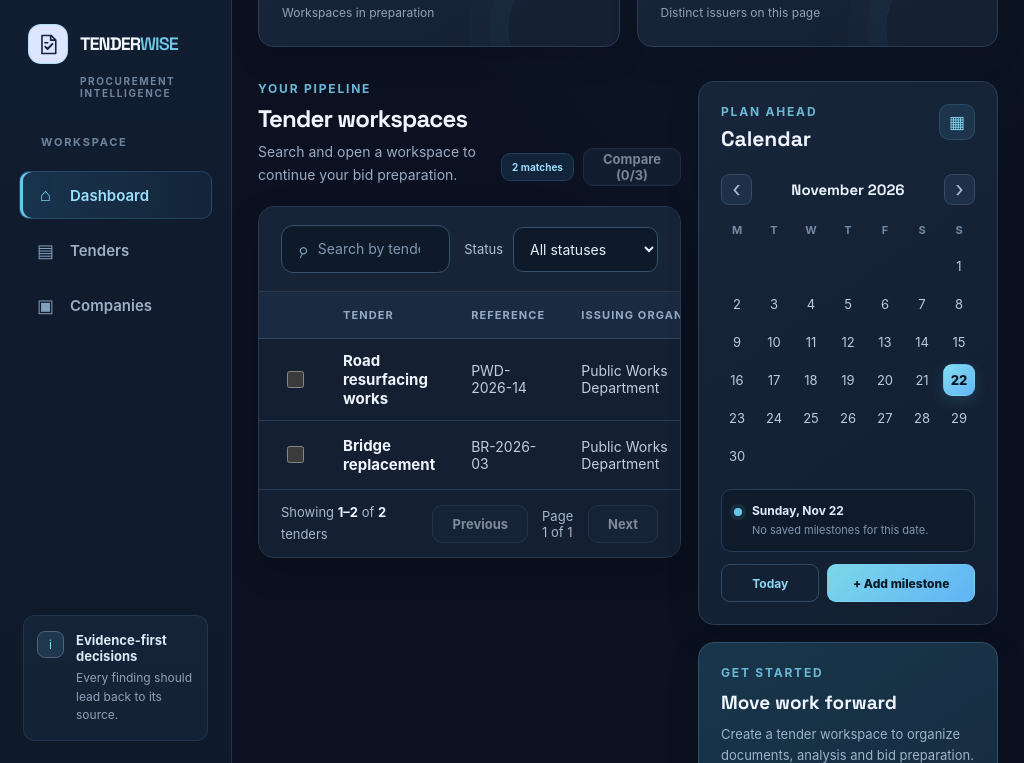
TenderWise dashboard and workspace › compares two selected tender workspaces using returned backend details
The width and height of the screenshot is (1024, 763).
(page scrolled)
Expected: the text "Road resurfacing works" is shown, top-left (343, 351), bottom-right (428, 408)
What coordinates should you click on to do the following:
click the checkbox named "Select Road resurfacing works for comparison"
I would click on:
 (296, 379)
Its box is top-left (287, 371), bottom-right (304, 388).
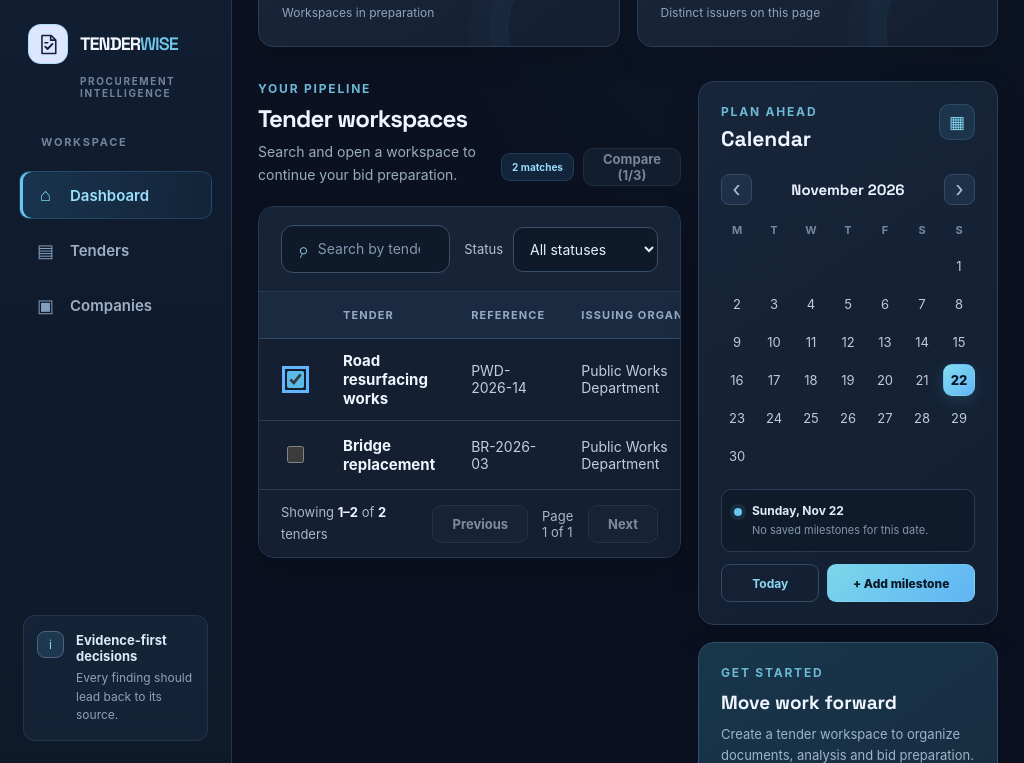
What coordinates should you click on to do the following:
click the checkbox named "Select Bridge replacement for comparison"
I would click on:
 (296, 455)
Its box is top-left (287, 446), bottom-right (304, 463).
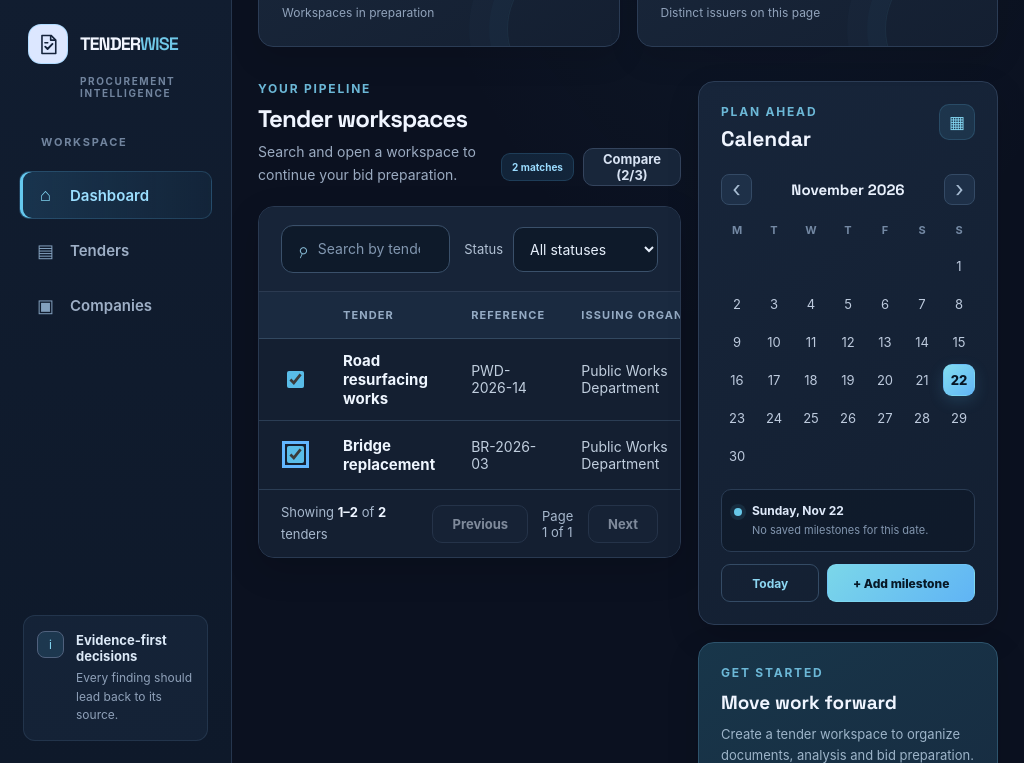
What coordinates should you click on to do the following:
click the button "Compare (2/3)"
I would click on:
 (632, 167)
Its box is top-left (583, 148), bottom-right (681, 186).
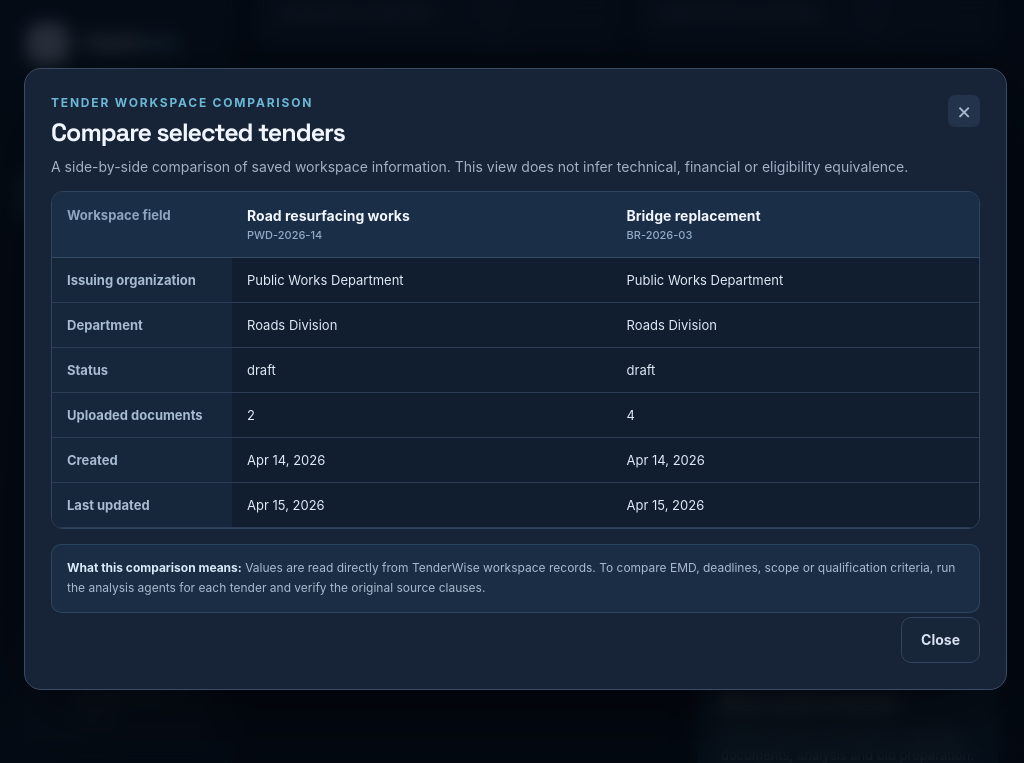
Expected: the column heading "Uploaded documents" is shown, top-left (52, 393), bottom-right (232, 438)
Expected: the text "2" is shown, top-left (232, 393), bottom-right (612, 438)
Expected: the text "4" is shown, top-left (612, 393), bottom-right (979, 438)
